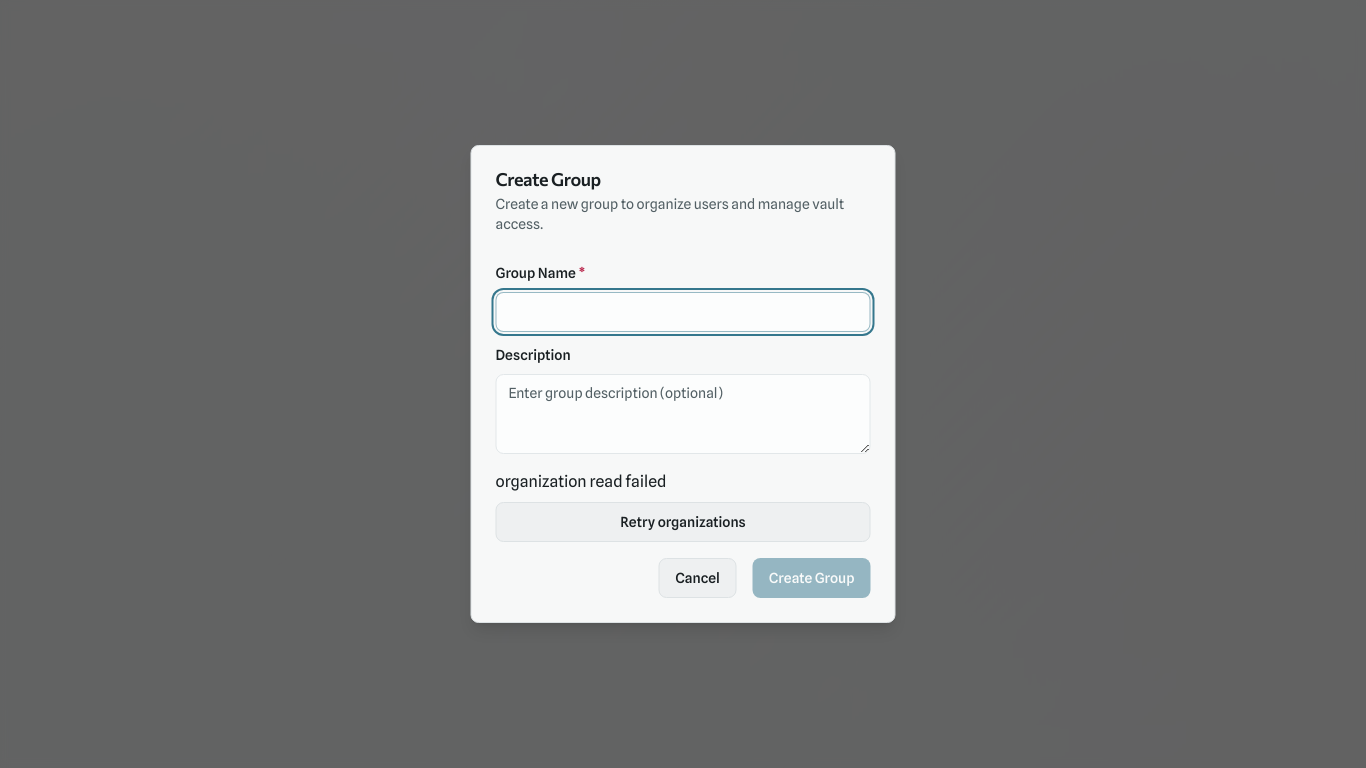
Test: C08 GroupFormDialog organization read outcome › keeps a failed organization read unknown and exposes a visible retry
Click the button "Retry organizations": (683, 522) [496, 502, 870, 542]
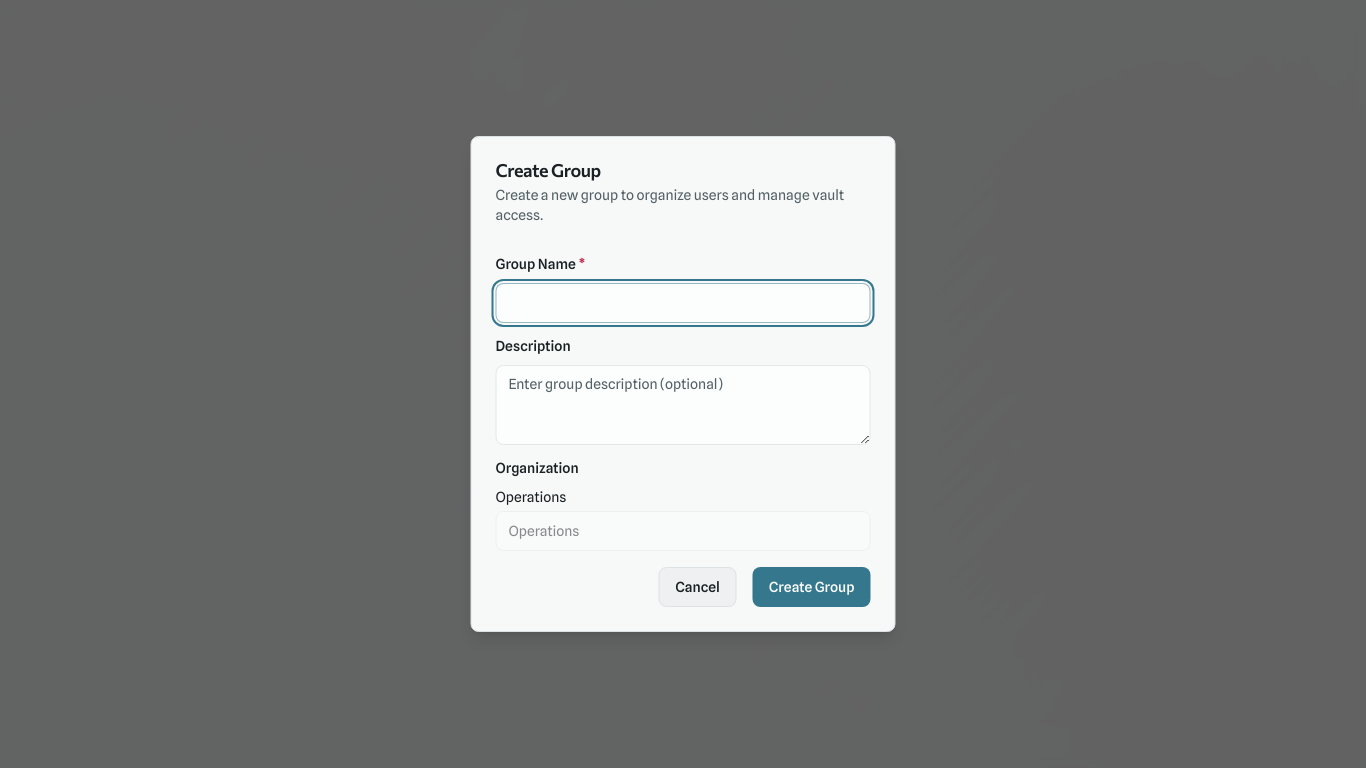
Expected: the text "Operations" is shown, [496, 489, 566, 505]
